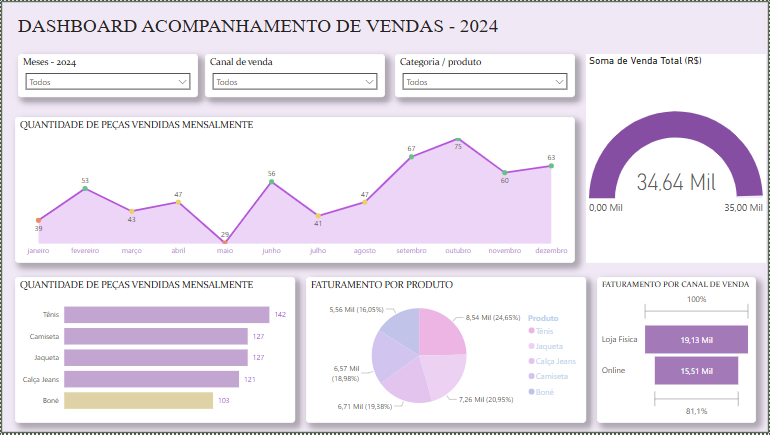

The dashboard page shown, as its layout file describes it:
{"tool":"powerbi","page":{"name":"Página 1","canvas":[1280,720],"ordinal":0},"visuals":[{"type":"shape","box":[0,0,1280,720],"z":0},{"type":"lineChart","title":"QUANTIDADE DE PEÇAS VENDIDAS MENSALMENTE","fields":{"Category":["Vendas.Data da Venda.Variation.Hierarquia de datas.Mês"],"Y":["Sum(Vendas.Quantidade)"]},"box":[23.3,192.8,933.3,243.3],"z":1000},{"type":"clusteredBarChart","title":"QUANTIDADE DE PEÇAS VENDIDAS MENSALMENTE","fields":{"Y":["Sum(Vendas.Quantidade)"],"Category":["Vendas.Produto"]},"box":[23.3,460,466.7,243.3],"z":2000},{"type":"pieChart","title":"FATURAMENTO POR PRODUTO","fields":{"Category":["Vendas.Produto"],"Y":["Sum(Vendas.Venda Total (R$))"]},"box":[508.3,460,466.7,243.3],"z":3000},{"type":"funnel","title":"FATURAMENTO POR CANAL DE VENDA","fields":{"Category":["Vendas.Canal de Venda"],"Y":["Sum(Vendas.Venda Total (R$))"]},"box":[993.3,460,265,243.3],"z":4000},{"type":"textbox","box":[23.3,18.3,1078.3,136.7],"z":5000},{"type":"slicer","title":"Meses - 2024","fields":{"Values":["Vendas.Meses"]},"box":[28.3,88.3,300,71.7],"z":6000},{"type":"slicer","title":"Canal de venda","fields":{"Values":["Vendas.Canal de Venda"]},"box":[340,88.3,300,71.7],"z":7000},{"type":"slicer","title":"Categoria / produto","fields":{"Values":["Vendas.Categoria","Vendas.Produto"]},"box":[656.7,88.3,300,71.7],"z":8000},{"type":"gauge","fields":{"Y":["Sum(Vendas.Venda Total (R$))"]},"box":[975,88.3,300,348.3],"z":9000}]}

Visuals, with their boxes in screenshot pixels (x1, y1, x2, y2), scaled from the page's 1280x720 canvas onto the 770x437 screenshot:
shape: rect(0, 0, 769, 436)
"QUANTIDADE DE PEÇAS VENDIDAS MENSALMENTE" lineChart: rect(14, 117, 575, 265)
"QUANTIDADE DE PEÇAS VENDIDAS MENSALMENTE" clusteredBarChart: rect(14, 279, 295, 427)
"FATURAMENTO POR PRODUTO" pieChart: rect(306, 279, 587, 427)
"FATURAMENTO POR CANAL DE VENDA" funnel: rect(598, 279, 757, 427)
textbox: rect(14, 11, 663, 94)
"Meses - 2024" slicer: rect(17, 54, 197, 97)
"Canal de venda" slicer: rect(205, 54, 385, 97)
"Categoria / produto" slicer: rect(395, 54, 576, 97)
gauge - Sum(Vendas.Venda Total (R$)): rect(587, 54, 767, 265)
